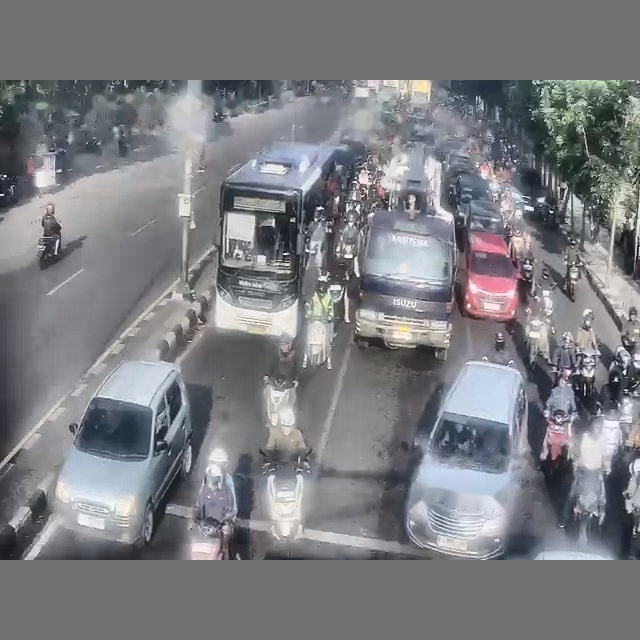Bis: (214, 142, 336, 336)
Mobil: (53, 360, 192, 546), (405, 360, 530, 559), (463, 231, 517, 321), (463, 201, 506, 250), (455, 170, 489, 202), (533, 550, 615, 560)
Motor: (259, 449, 311, 541), (574, 470, 606, 545), (545, 410, 573, 474), (263, 375, 297, 427), (190, 518, 228, 559), (601, 411, 623, 477), (575, 349, 597, 404), (305, 320, 330, 367), (36, 235, 59, 269), (565, 263, 579, 301)
